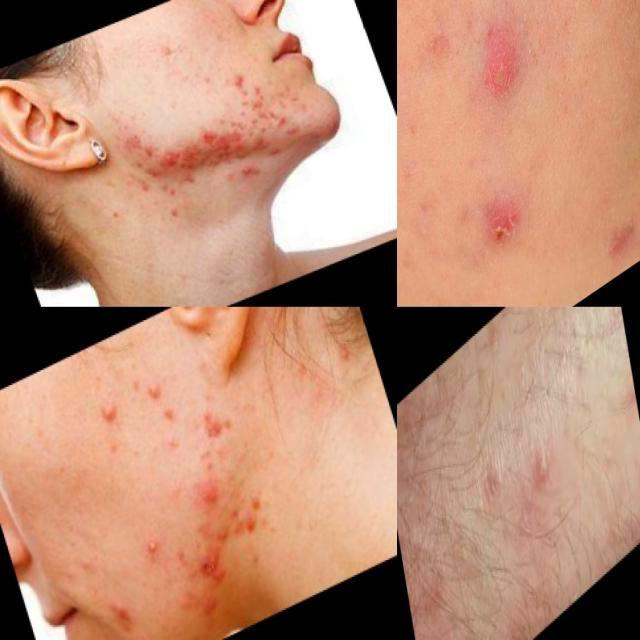Pimples: (478, 15, 538, 134), (180, 526, 242, 604), (174, 116, 246, 183), (89, 376, 141, 458), (198, 384, 250, 456), (314, 327, 364, 387), (246, 82, 295, 132), (140, 363, 184, 414), (137, 524, 175, 578), (531, 432, 558, 498), (146, 141, 187, 183), (225, 65, 258, 99)
